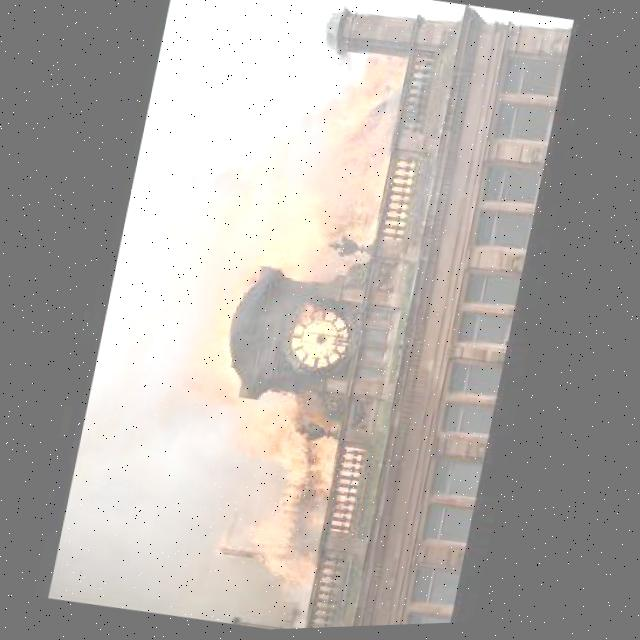Fire: (93, 27, 427, 608)
